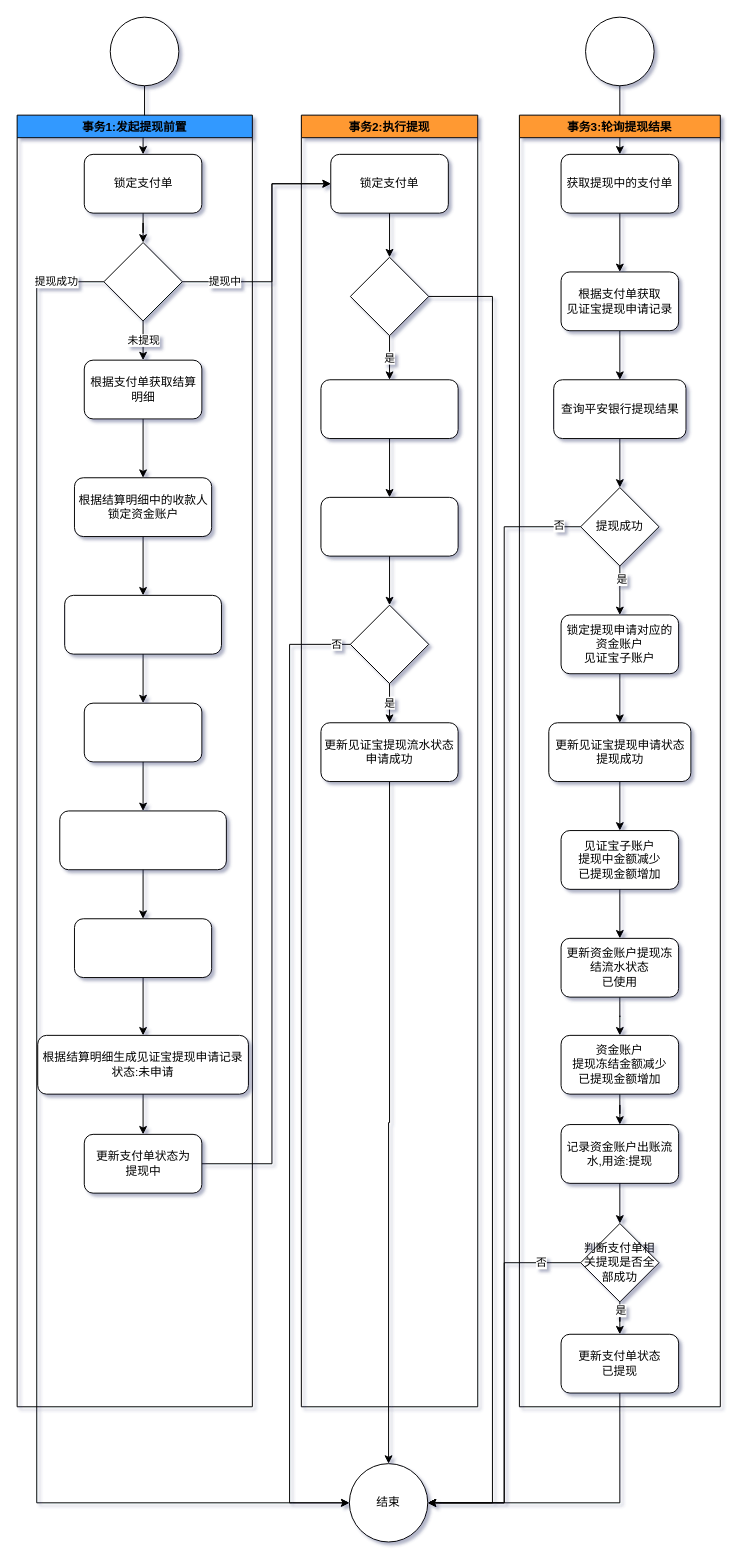
The diagram is 744 pixels wide and 1565 high, and some of its shapes have lost their labels. The box of each missing label's shape, as (x1, y1, x2, y2) in pixels:
判断结算状态: (103, 242, 182, 321)
支付单是否提现中: (349, 256, 429, 336)
支付单结算成功: (109, 16, 179, 86)
是否申请成功: (349, 604, 429, 684)
根据支付单获取结算明细 根据结算明细获取提现单并锁定: (320, 379, 458, 439)
根据结算明细中的收款人 锁定见证宝子账户: (64, 594, 221, 654)
根据结算明细生成提现冻结流水 状态:未申请: (59, 810, 226, 870)
被锁定的见证宝子账户 可提现金额减少 提现中金额增加: (74, 918, 212, 978)
被锁定的资金账户中 可提现金额减少 提现冻结金额增加: (83, 702, 202, 762)
轮询提现结果: (585, 16, 654, 86)
针对未申请的提现 向平安银行发起提现申请: (320, 496, 458, 556)
